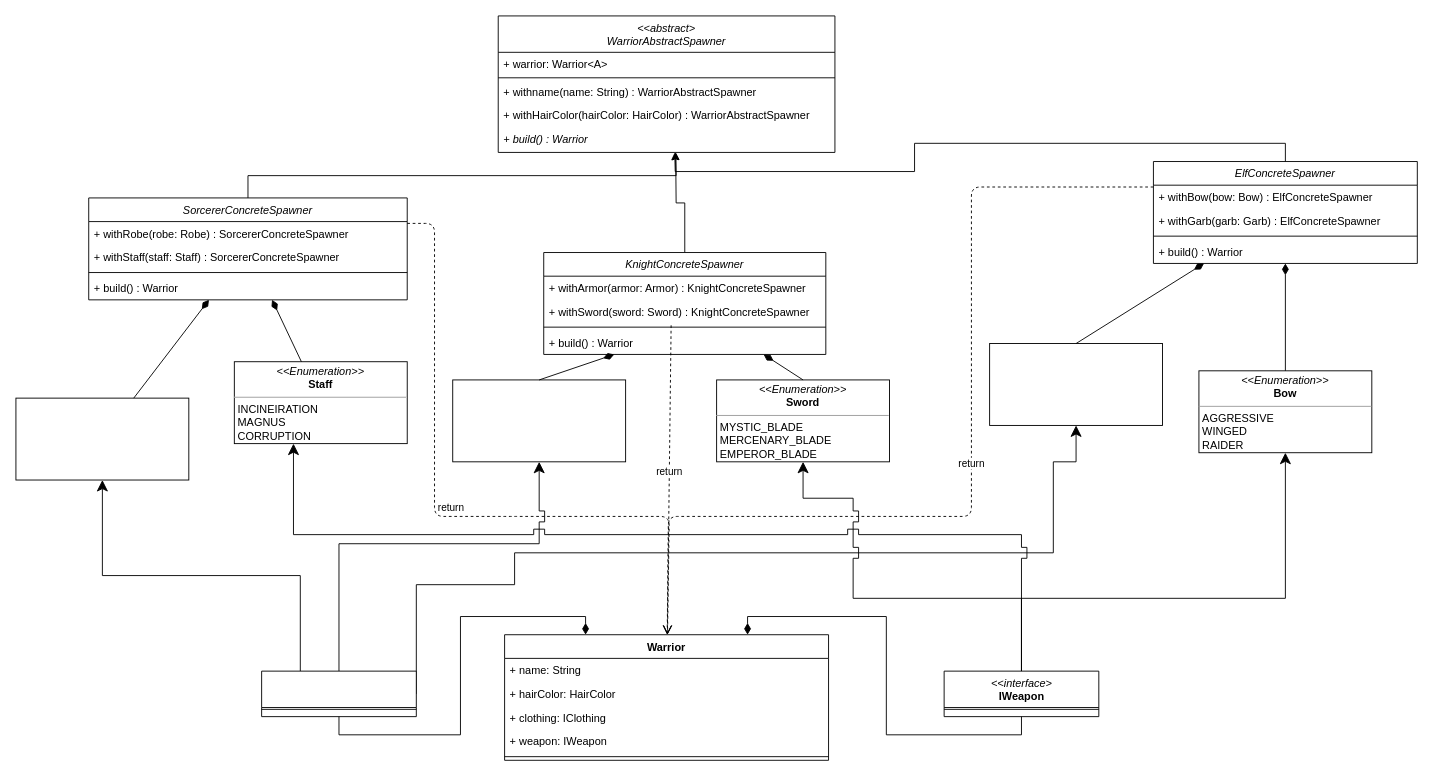
Image size: 1433x776. Some labels were removed from this diagram. Here are the shapes that lost their labels. From the top down, the centre of each, then its label:
the point at 1076,384: <<Enumeration>> Garb EXECUTIONER HUNTER FOREIGN
the point at 102,438: <<Enumeration>> Robe MONK DARK_MYSTIC VELVET_RENAISSANCE
the point at 539,420: <<Enumeration>> Armor HUNTER TEMPLAR MERCENARY
the point at 338,693: <<interface> IClothing
